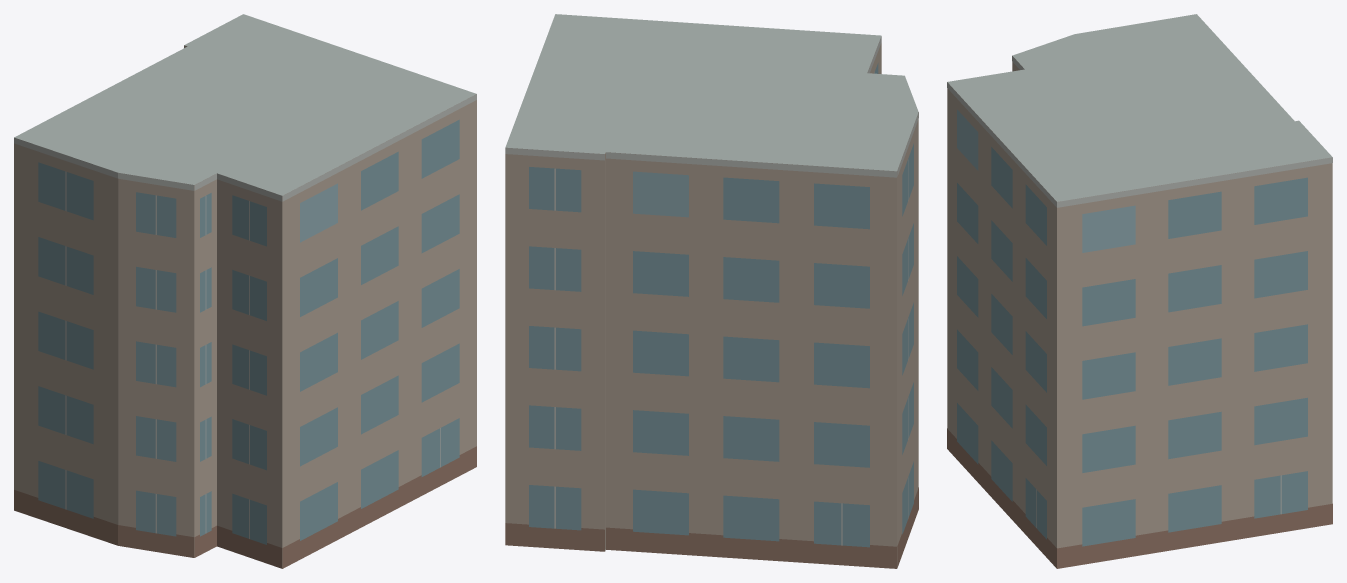
File: survey-upis-32755493.glb
3 views of the same model, side by side, from view 1: azimuth 30°, elevation 25°; view 2: azimuth 150°, elevation 25°; view 3: azimuth 270°, elevation 25° (orthographic). The views are drawn at different scales.
Visible parts, largest first — view 1: survey-upis-32755493.tmp; view 2: survey-upis-32755493.tmp; view 3: survey-upis-32755493.tmp.
Part boxes in pixels (x1,y1,x2,y2): survey-upis-32755493.tmp: (14, 14, 476, 568); survey-upis-32755493.tmp: (505, 14, 918, 568); survey-upis-32755493.tmp: (947, 14, 1332, 568).
Size of the model in its own units: 16.77 by 15.25 by 14.54.
